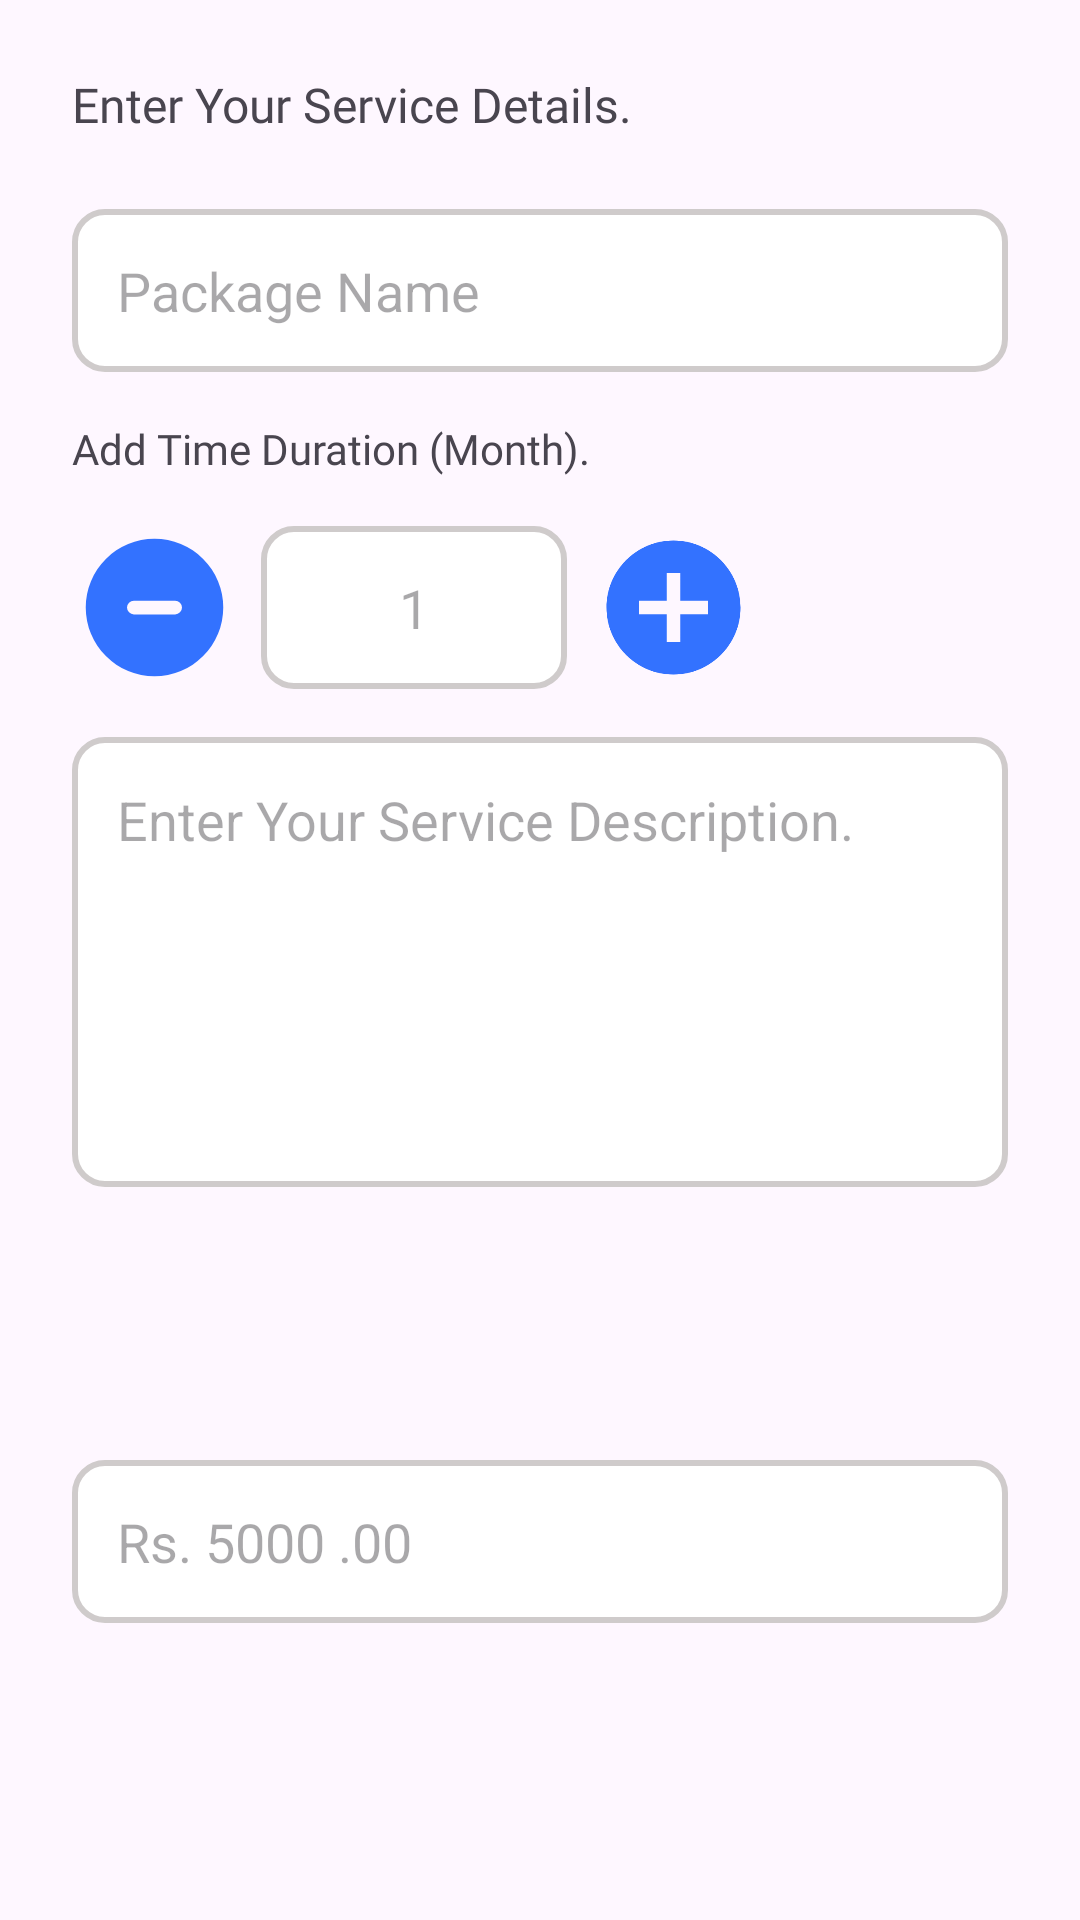

Named icons in this screenshot (1080x1920) and their bounding boxes, (x1,y1,x2,y2):
addcount: (606,540,741,675)
minus: (85,538,224,677)
